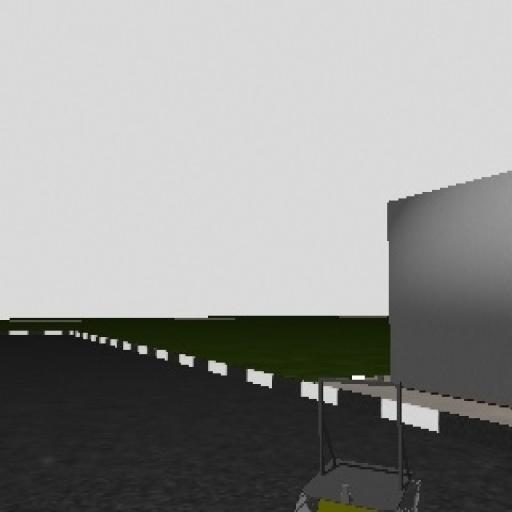huskya200: (284, 353, 426, 512)
